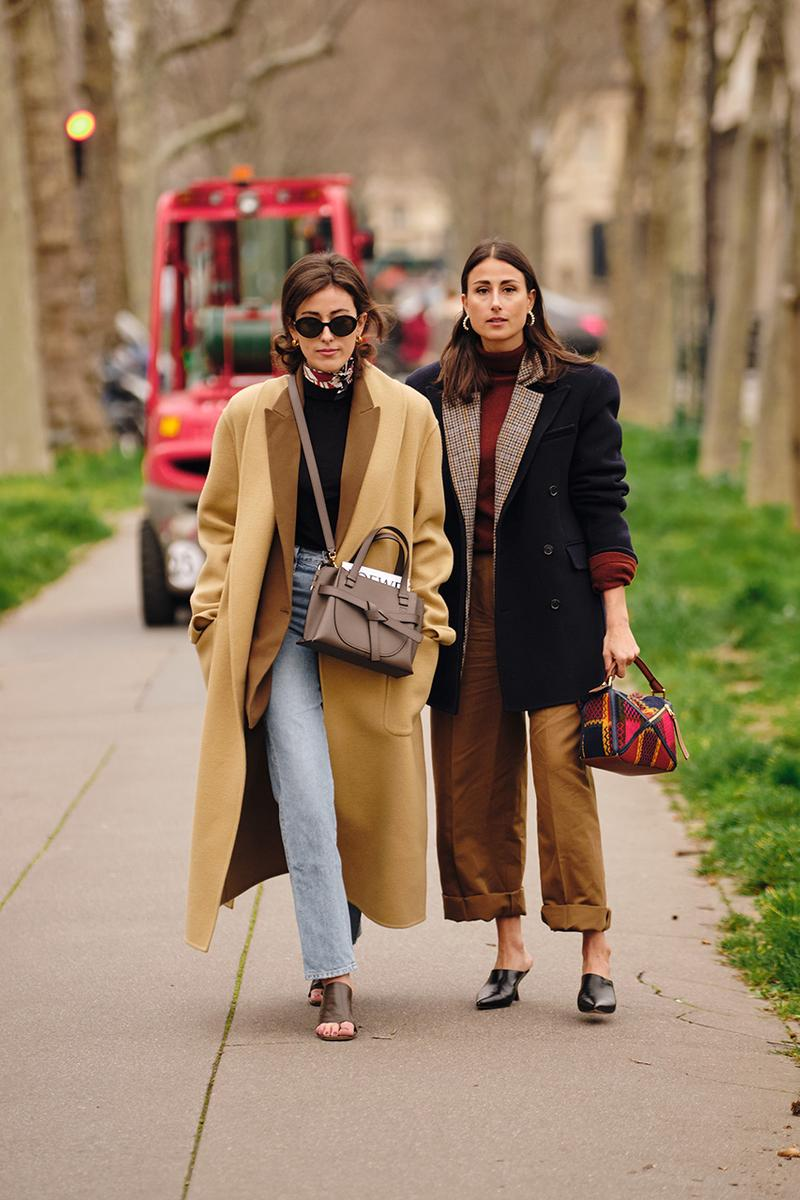Person: (187, 256, 453, 1042), (452, 239, 637, 1016)
